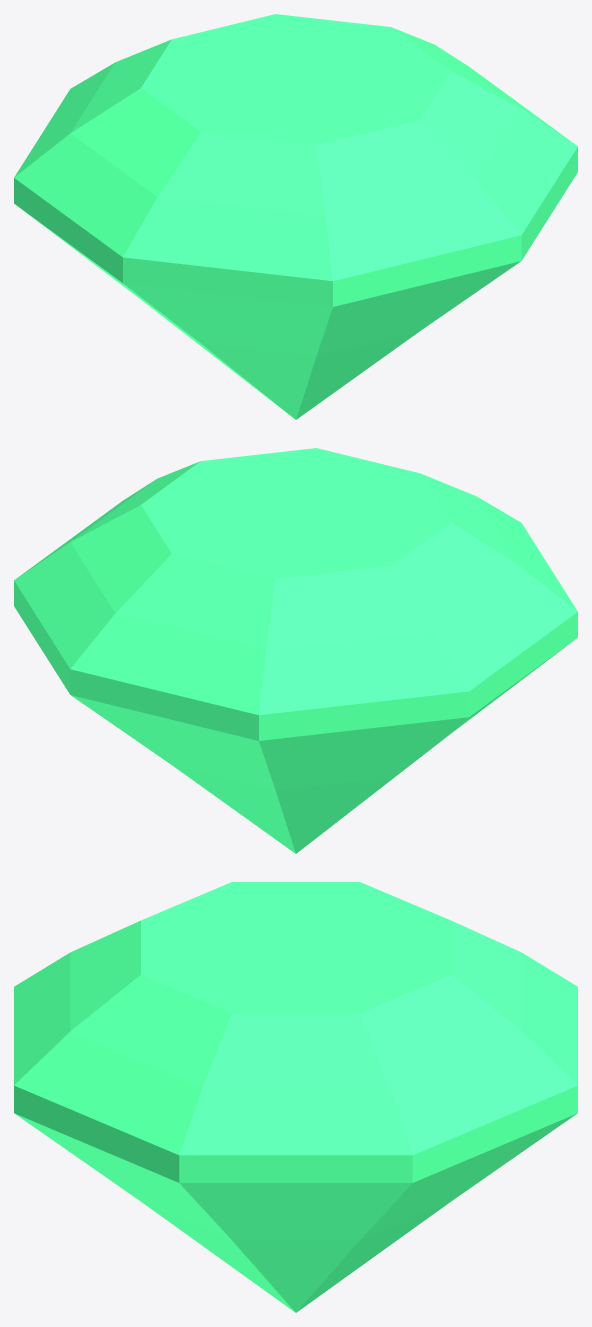
File: tsavorite-jewel.glb
The picture shows the model from 3 angles, top to bottom: view 1: azimuth 30°, elevation 25°; view 2: azimuth 150°, elevation 25°; view 3: azimuth 270°, elevation 25°; orthographic projection. The views are drawn at different scales.
Parts seen in each view (by area): view 1: Tsavorite; view 2: Tsavorite; view 3: Tsavorite.
Boxes of the visible parts, x1,y1,x2,y2 form: Tsavorite: [14, 14, 577, 419]; Tsavorite: [14, 448, 577, 853]; Tsavorite: [14, 882, 577, 1312].
Bounding box in the file's own units: 1.85 × 1.32 × 1.85.
